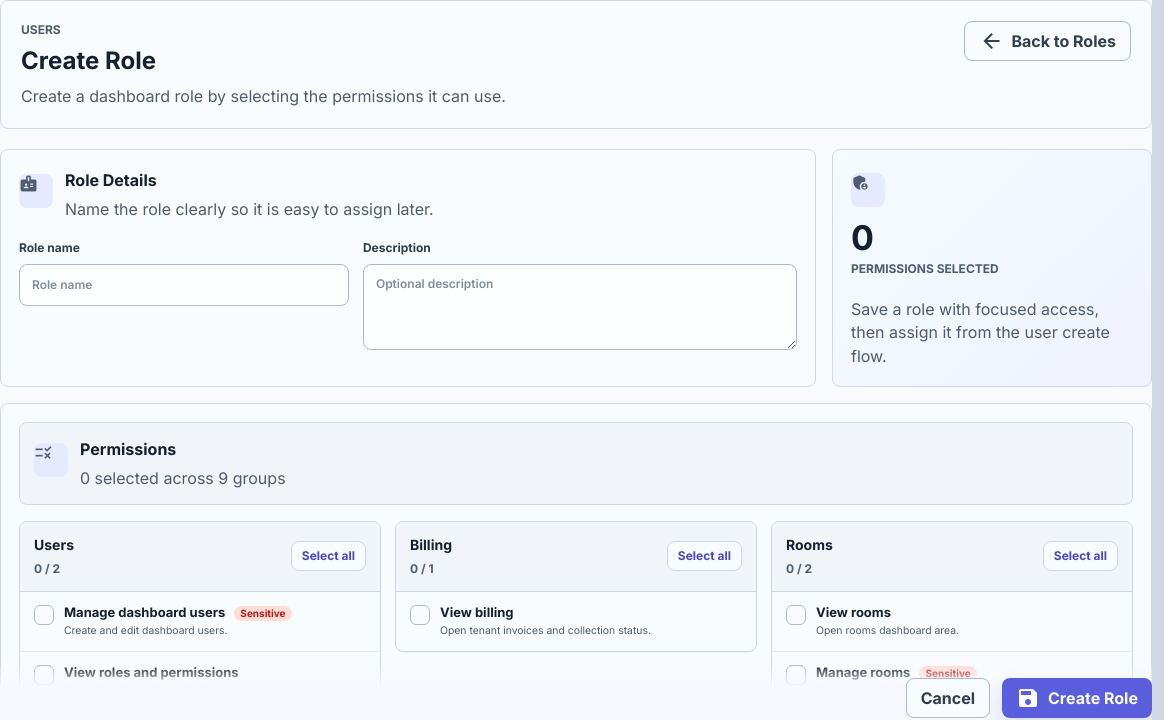
Test: TenantRoleFormComponent › shows validation without losing entered draft values
Type "Role draft notes" into the text box labelled "Description" at (580, 307), box x1=363 y1=264 x2=797 y2=350
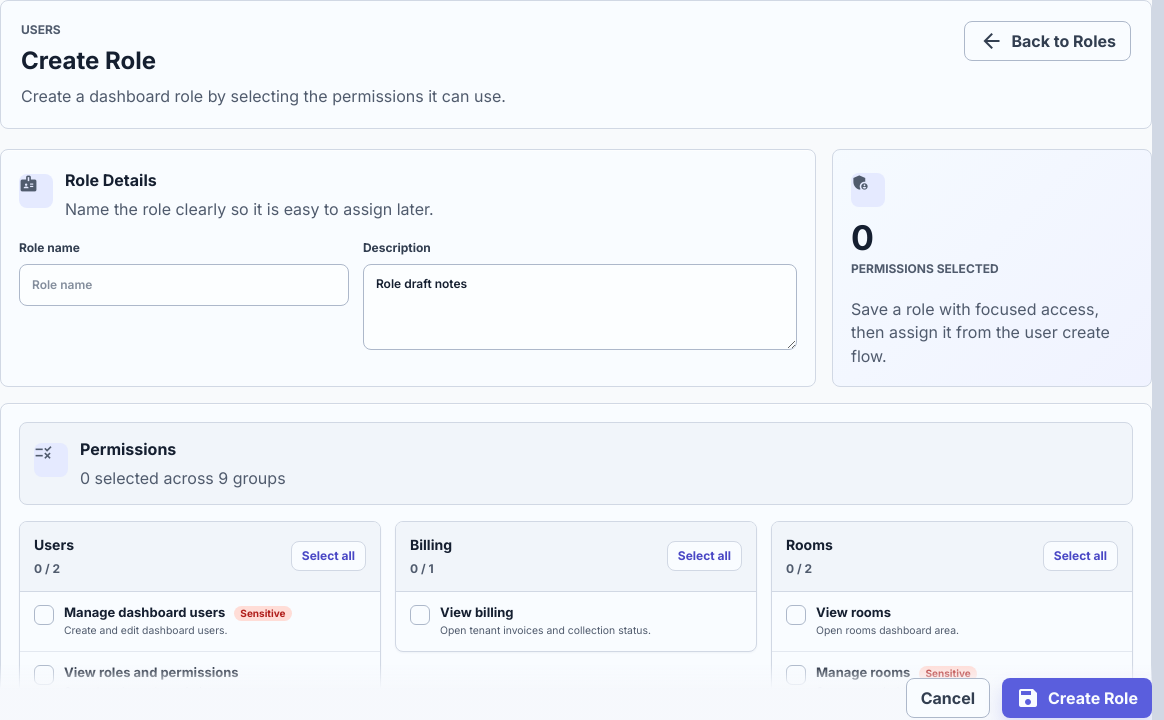
Click the button "Create Role" at (1077, 698), box x1=1002 y1=678 x2=1152 y2=718
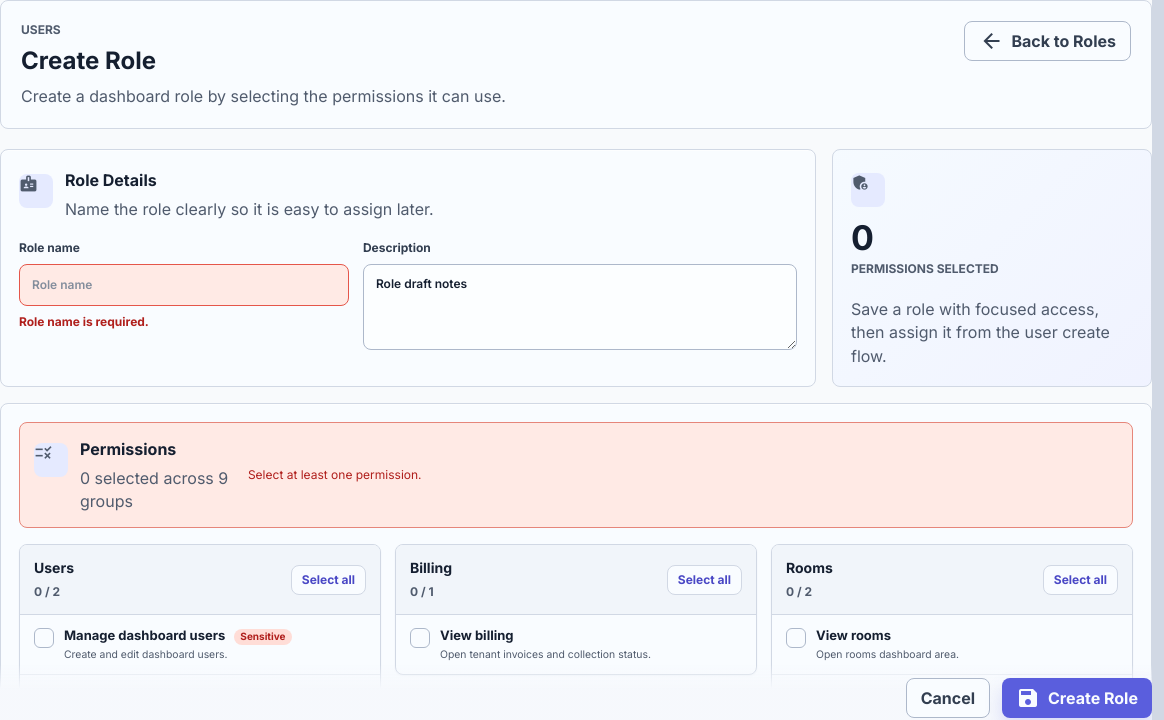
Result: the text "Role name is required." is shown at x1=19 y1=314 x2=149 y2=329
Result: the text "Select at least one permission." is shown at x1=248 y1=467 x2=422 y2=482
